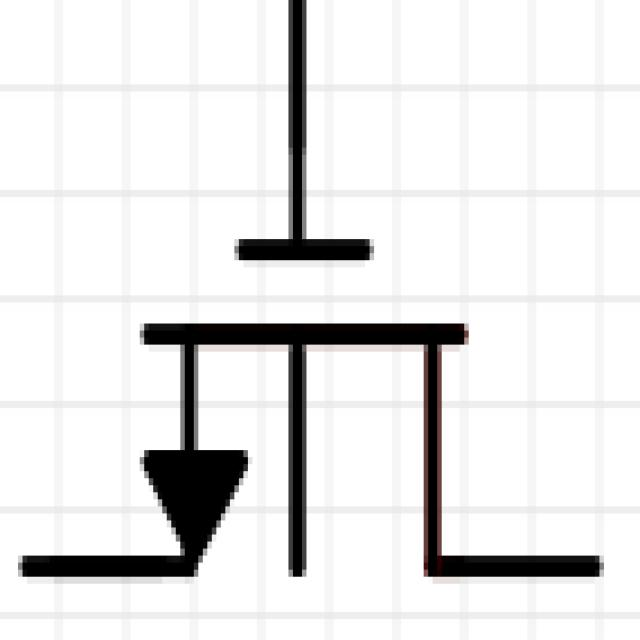pmos: (31, 94, 615, 640)
